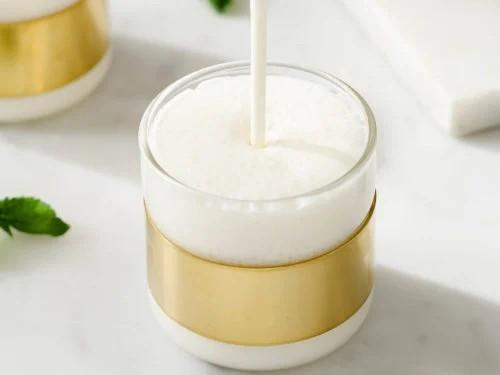Lassi: (141, 73, 374, 369)
